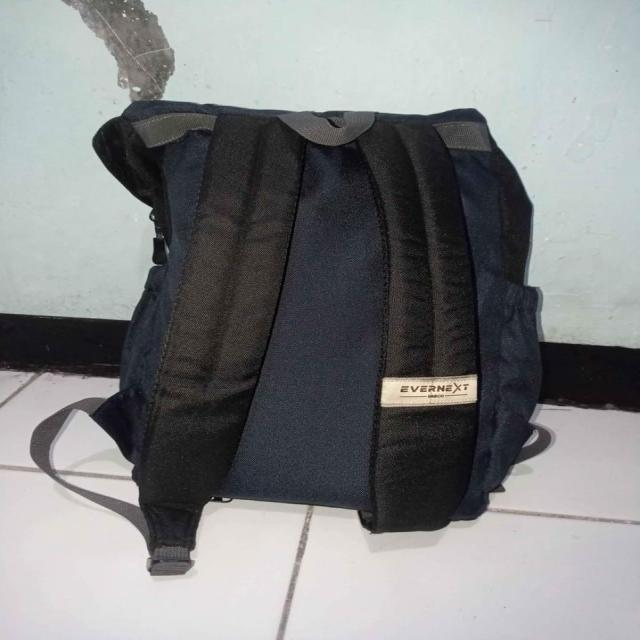bag: (102, 102, 535, 537)
